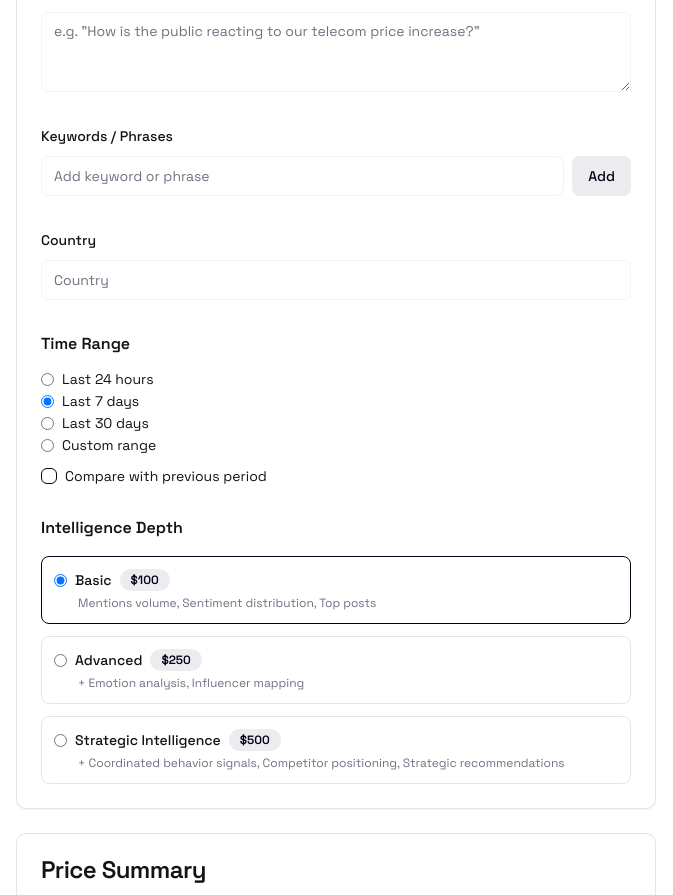
Scenario: request form page › shows calendar inputs when custom range is selected
The width and height of the screenshot is (673, 895).
(page scrolled)
// Click the "Custom range" radio
Click the text "Custom range" at coordinates (109, 445), box [62, 438, 156, 452]
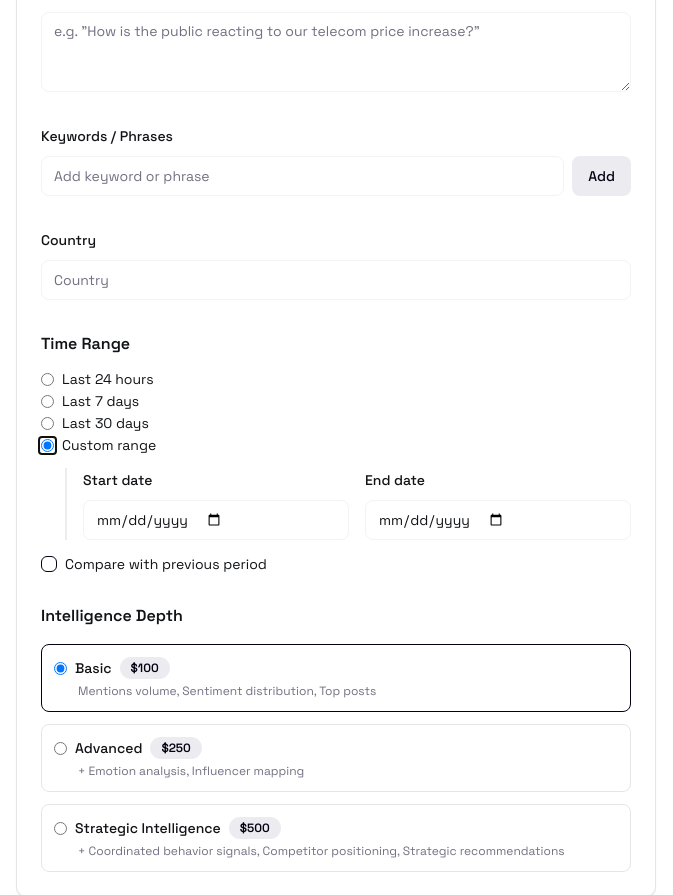
Now the date field labelled "Start date" is shown, box [83, 500, 349, 540]
Now the date field labelled "End date" is shown, box [365, 500, 631, 540]
